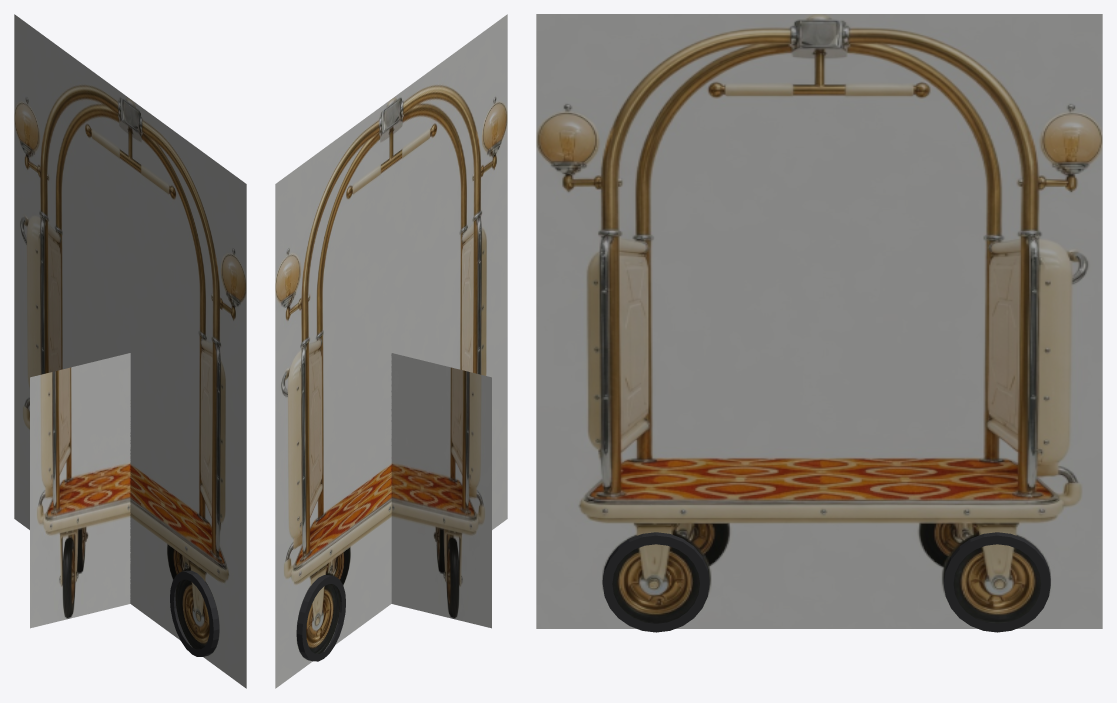
File: luggage_cart.glb
The picture shows the model from 3 angles, left to right: view 1: azimuth 30°, elevation 25°; view 2: azimuth 150°, elevation 25°; view 3: azimuth 270°, elevation 25°; orthographic projection. The views are drawn at different scales.
Parts seen in each view (by area): view 1: luggage_cart, wheel_BC; view 2: luggage_cart, wheel_FC; view 3: luggage_cart, wheel_BC, wheel_FC.
Part boxes in pixels (<box>): luggage_cart: <box>14,14,246,688</box>; wheel_BC: <box>170,570,219,656</box>; luggage_cart: <box>275,14,507,688</box>; wheel_FC: <box>296,575,345,661</box>; luggage_cart: <box>536,14,1102,628</box>; wheel_BC: <box>602,532,709,632</box>; wheel_FC: <box>944,532,1050,632</box>.
Bounding box in the file's own units: 0.6989 × 1.67 × 1.4.
Materials: 2 (1 with a texture image).
